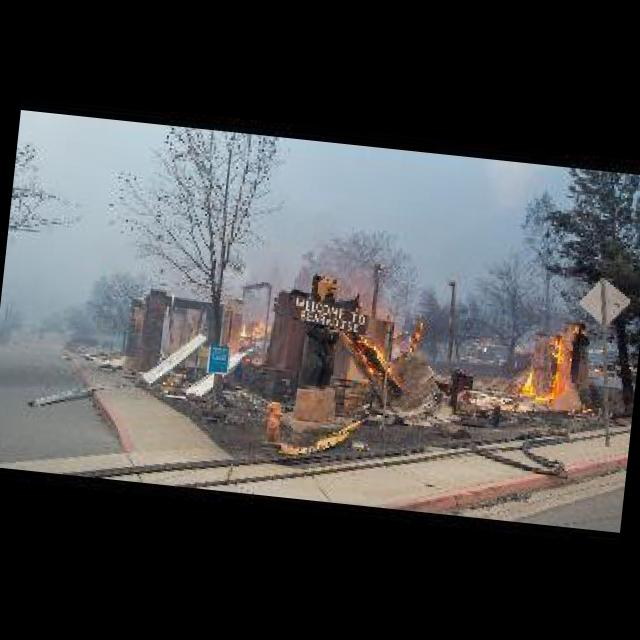Fire: (513, 317, 583, 419), (335, 320, 416, 396)
